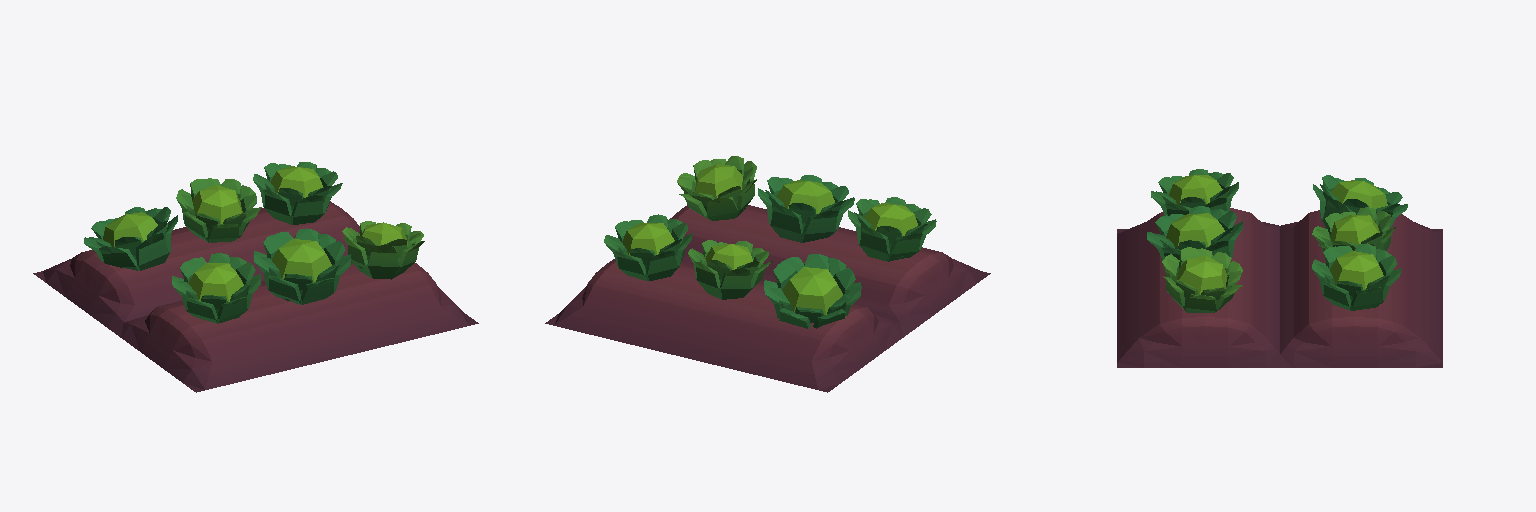
The picture shows the model from 3 angles: view 1: azimuth 30°, elevation 25°; view 2: azimuth 150°, elevation 25°; view 3: azimuth 270°, elevation 25°; orthographic projection.
Visible parts, largest first — view 1: {mesh}Farm_Cabbage_Plane.015; view 2: {mesh}Farm_Cabbage_Plane.015; view 3: {mesh}Farm_Cabbage_Plane.015.
Part boxes in pixels (left/top/right/bottom): {mesh}Farm_Cabbage_Plane.015: left=33, top=162, right=478, bottom=392; {mesh}Farm_Cabbage_Plane.015: left=545, top=156, right=990, bottom=392; {mesh}Farm_Cabbage_Plane.015: left=1117, top=169, right=1442, bottom=367.
Bounding box in the file's own units: 100 × 28.73 × 99.57.
Materials: 1 (1 with a texture image).